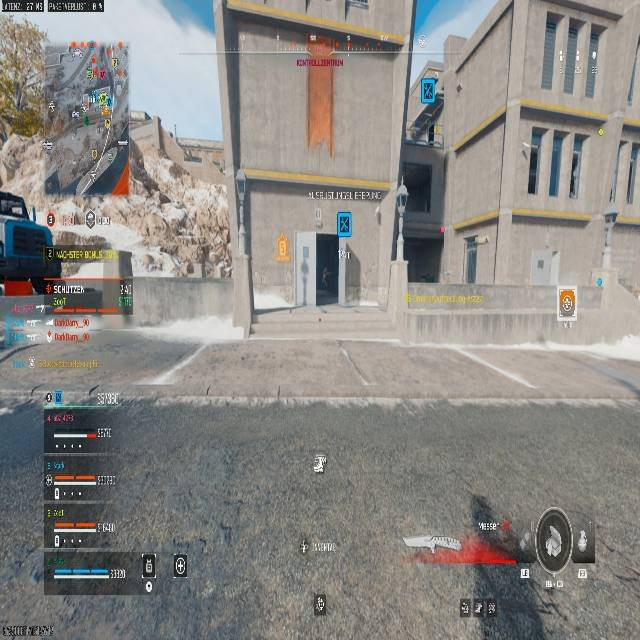player: (321, 266, 330, 289)
